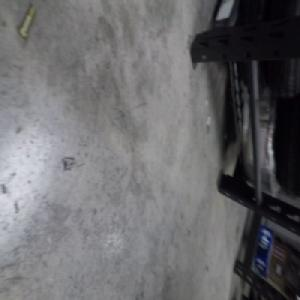Bolt: (17, 3, 36, 40)
